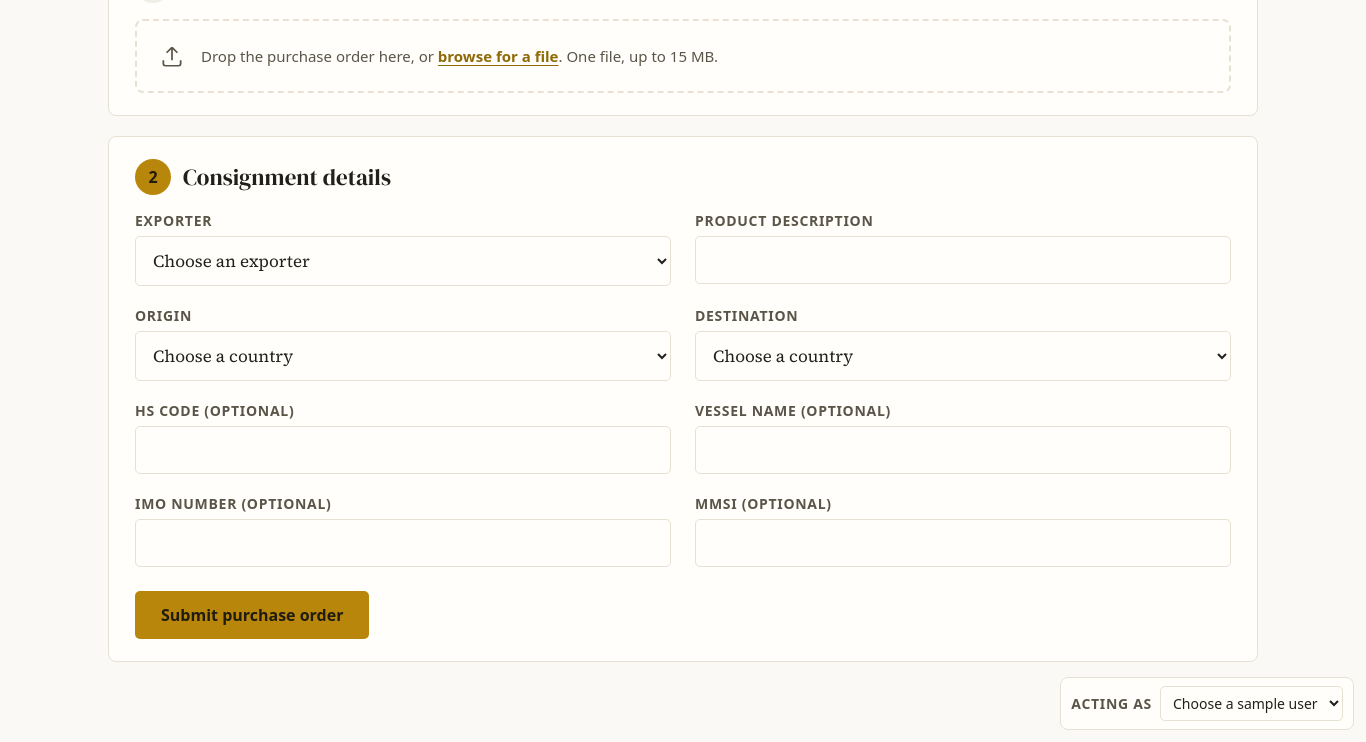
it: intake: checking before sending › names every missing thing, puts focus on the first, and sends nothing
(page scrolled)
Click the button "Submit purchase order" at {"x": 252, "y": 615}, box [135,591,369,639]
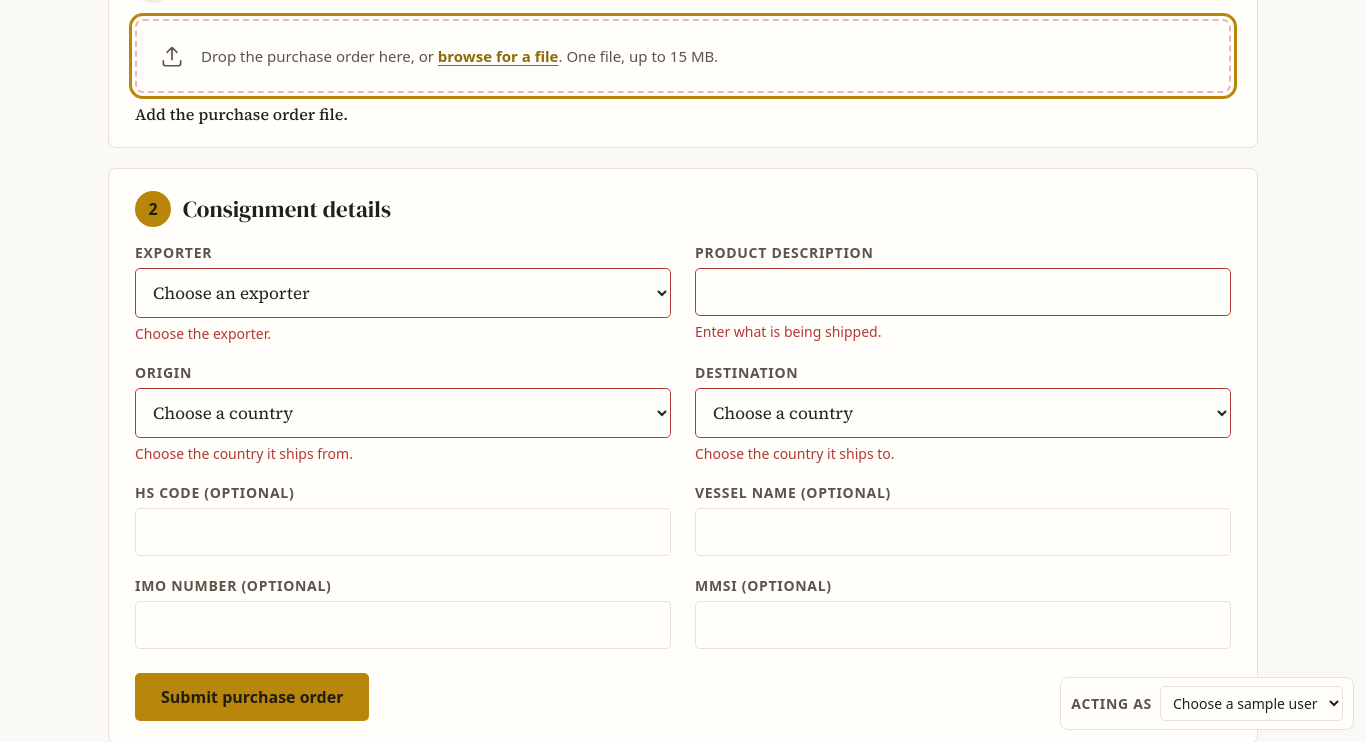
Result: the text "Add the purchase order file." is shown at [135,103,348,125]
Result: the text "Choose the exporter." is shown at [135,324,271,343]
Result: the text "Enter what is being shipped." is shown at [695,322,881,341]
